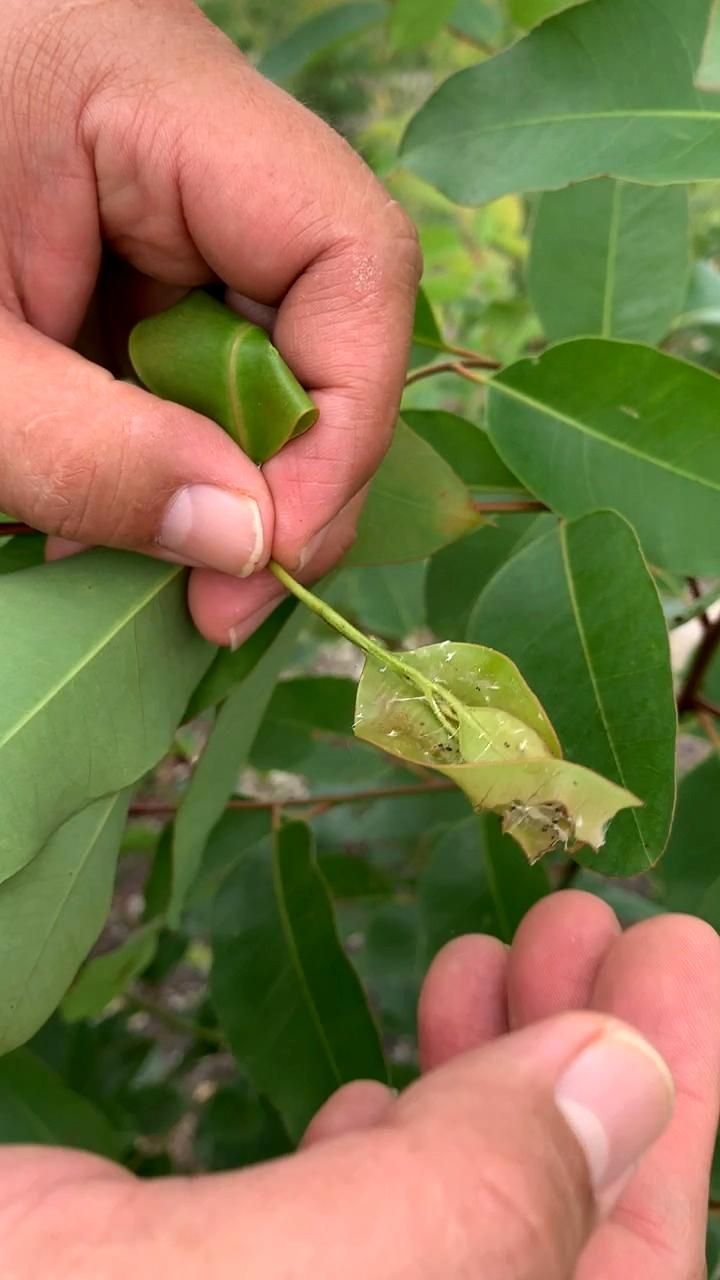Leaf Roller - Leaf: (325, 616, 656, 880)
